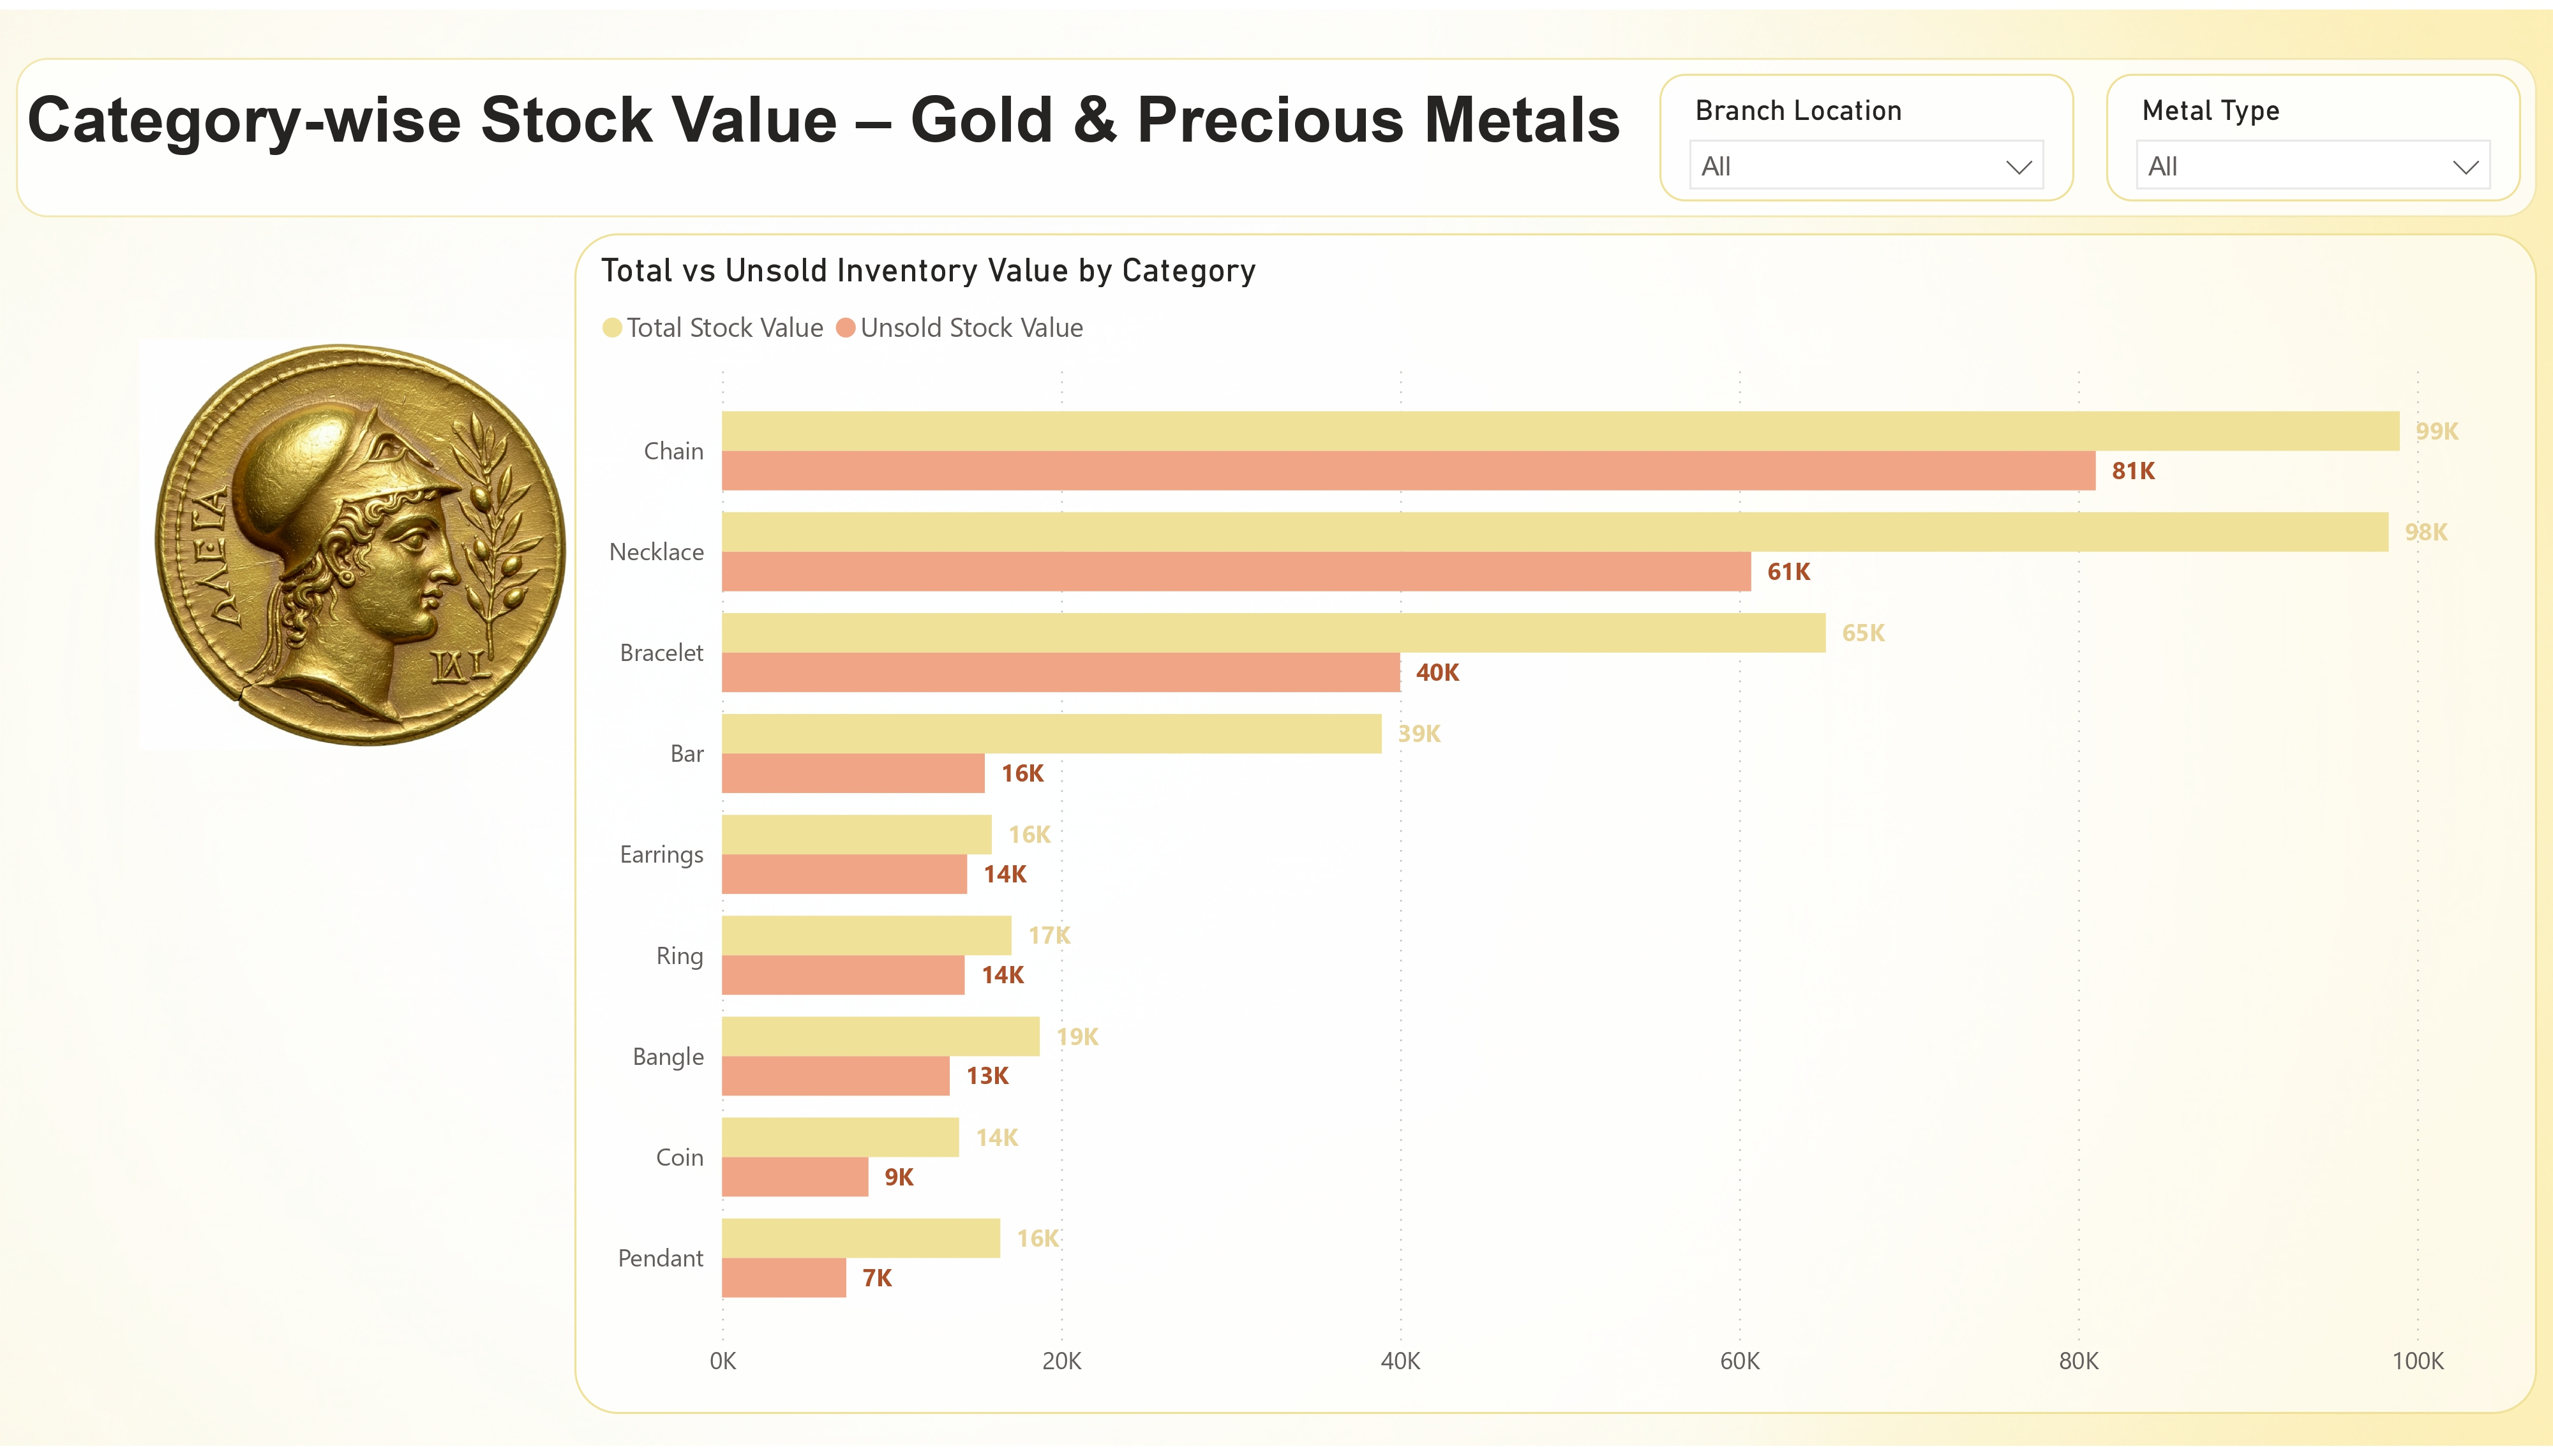

The page's visual inventory and layout, read from the dashboard file:
{"tool":"powerbi","page":{"name":"Detail Analysis -Unsolved","canvas":[1280,720],"ordinal":1},"visuals":[{"type":"shape","box":[8,24,1264,80],"z":0},{"type":"textbox","box":[8,32,816,56],"z":1000},{"type":"image","box":[8,160,344,216],"z":2000},{"type":"clusteredBarChart","title":"Total vs Unsold Inventory Value by Category","fields":{"Category":["Inventory.Category"],"Y":["Sum(Inventory.Total Value AED)","KeyMeasures.Unsold Value AED"]},"box":[288,112,984,592],"z":3000},{"type":"slicer","fields":{"Values":["Inventory.Branch Location"]},"box":[832,32,208,64],"z":4000},{"type":"slicer","fields":{"Values":["Inventory.Metal Type"]},"box":[1056,32,208,64],"z":5000}]}

Visuals, with their boxes in screenshot pixels (x1, y1, x2, y2), scaled from the page's 1280x720 canvas onto the 2553x1456 screenshot:
shape: {"x1": 16, "y1": 48, "x2": 2537, "y2": 211}
textbox: {"x1": 16, "y1": 64, "x2": 1643, "y2": 178}
image: {"x1": 16, "y1": 323, "x2": 702, "y2": 761}
"Total vs Unsold Inventory Value by Category" clusteredBarChart: {"x1": 574, "y1": 227, "x2": 2537, "y2": 1423}
slicer - Inventory.Branch Location: {"x1": 1659, "y1": 64, "x2": 2074, "y2": 194}
slicer - Inventory.Metal Type: {"x1": 2106, "y1": 64, "x2": 2521, "y2": 194}
